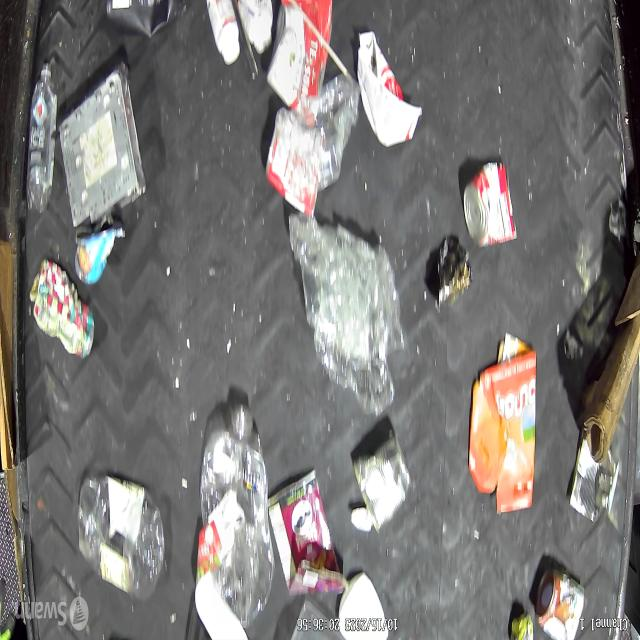can: (266, 0, 332, 133), (347, 425, 407, 536), (262, 101, 318, 216), (463, 150, 516, 252), (568, 435, 620, 524), (531, 565, 588, 640)
plastic_bottle: (198, 400, 274, 634), (23, 57, 61, 218)
